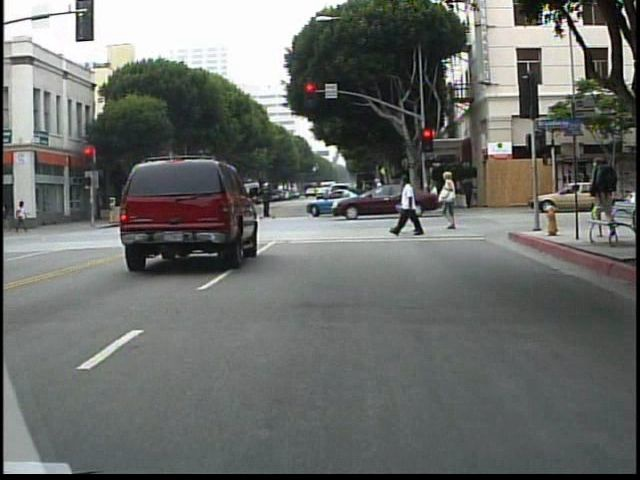person: (398, 175, 429, 240), (586, 151, 618, 207), (438, 173, 466, 232), (396, 176, 413, 234), (371, 175, 392, 217), (354, 179, 373, 217), (144, 189, 160, 232), (400, 178, 418, 216), (259, 178, 275, 220), (123, 192, 139, 232), (15, 200, 32, 235), (2, 200, 16, 235)
